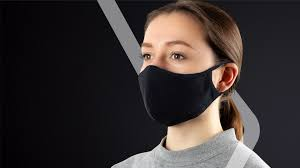FaceMask: (138, 65, 220, 126)
